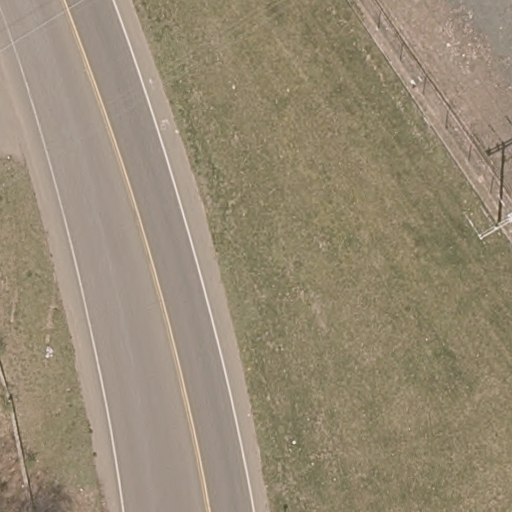DT: (477, 213, 512, 241)
